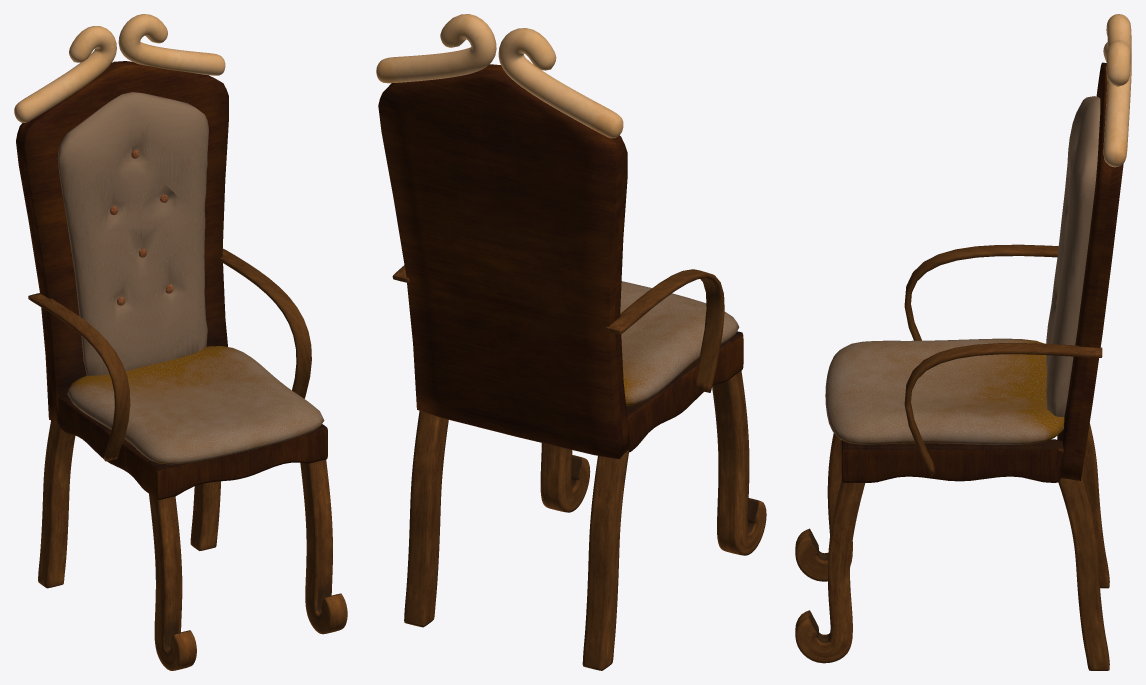
Rendered from ChessChair.fbx.
3 views of the same model, side by side, from view 1: azimuth 30°, elevation 25°; view 2: azimuth 150°, elevation 25°; view 3: azimuth 270°, elevation 25° (orthographic). The views are drawn at different scales.
Parts seen in each view (by area): view 1: Object001; view 2: Object001; view 3: Object001.
Part boxes in pixels (bbox=[...]): Object001: bbox=[14, 14, 347, 670]; Object001: bbox=[376, 14, 766, 670]; Object001: bbox=[795, 14, 1131, 670].
Bounding box in the file's own units: 84.63 × 209 × 107.
